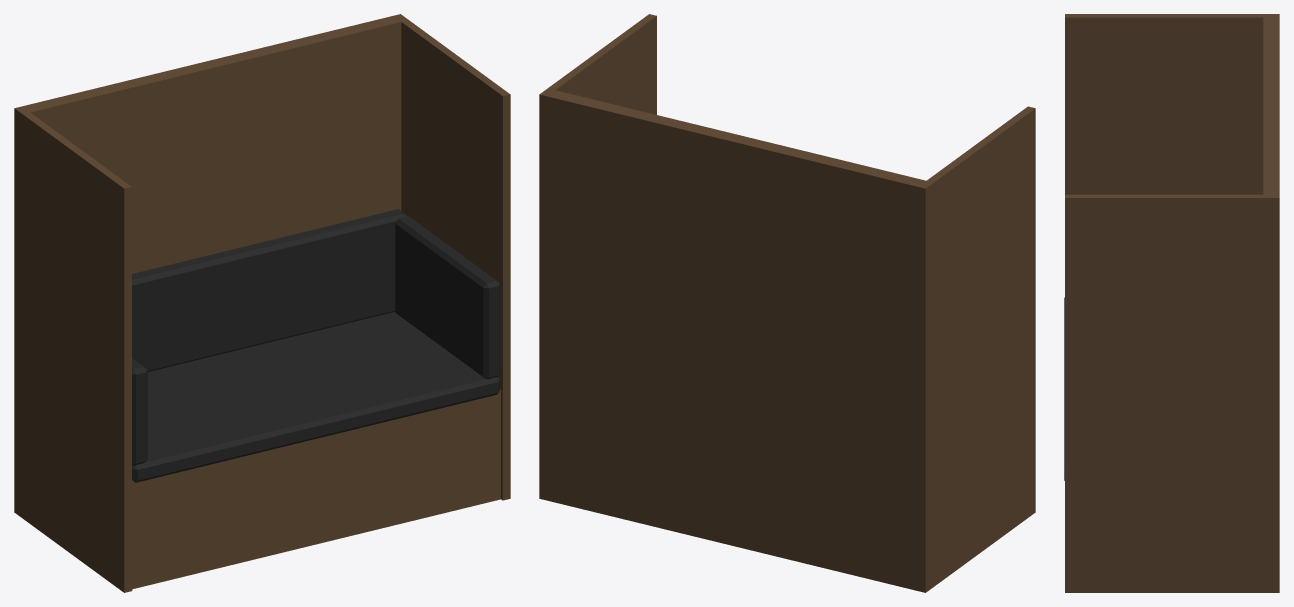
File: Sofa_Modul.fbx
3 views of the same model, side by side, from view 1: azimuth 30°, elevation 25°; view 2: azimuth 150°, elevation 25°; view 3: azimuth 270°, elevation 25° (orthographic). The views are drawn at different scales.
Visible parts, largest first — view 1: Cube.002; view 2: Cube.002; view 3: Cube.002.
Part boxes in pixels (x1,y1,x2,y2): Cube.002: (14, 14, 510, 592); Cube.002: (539, 14, 1035, 592); Cube.002: (1064, 14, 1279, 592).
Bounding box in the file's own units: 139 × 139 × 68.9.
